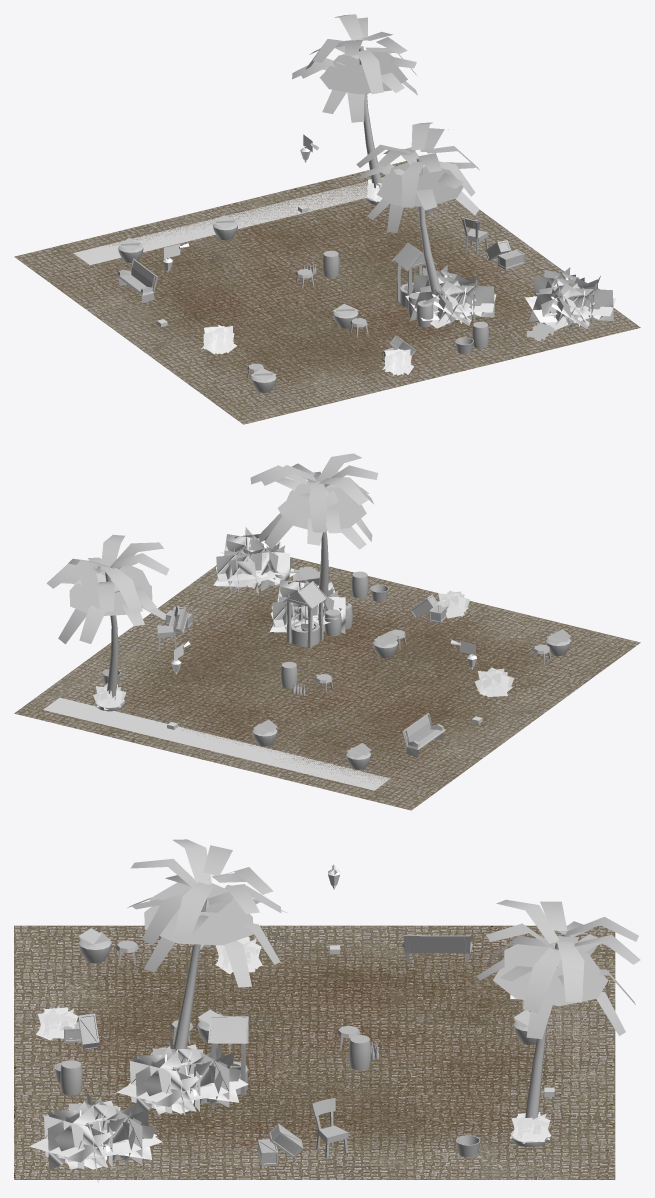
The model's file is propsonly_4.gltf.
The picture shows the model from 3 angles, top to bottom: view 1: azimuth 30°, elevation 25°; view 2: azimuth 150°, elevation 25°; view 3: azimuth 270°, elevation 25°; orthographic projection. The views are drawn at different scales.
Visible parts, largest first — view 1: ground.004, prop_tree2.005, prop_tree3.007, FeedbackBlocker.009, prop_bush_jungle_04_small.008, prop_bush_jungle_04_small.007, prop_well.005, prop_bench1.007, prop_building_bush_05.028, prop_building_bush_05.031; view 2: ground.004, prop_tree3.007, prop_tree2.005, FeedbackBlocker.009, prop_bush_jungle_04_small.008, prop_bush_jungle_04_small.007, prop_well.005, prop_bench1.007, prop_building_bush_05.028, prop_building_bush_05.031, prop_building_bush_05.030, prop_flowerpot.016 (+3 smaller); view 3: ground.004, prop_tree2.005, prop_tree3.007, prop_bush_jungle_04_small.008, prop_bush_jungle_04_small.007, prop_well.005, prop_bench1.007, prop_chair1.004, prop_building_bush_05.031, prop_building_bush_05.030, prop_flowerpot.020, prop_building_bush_05.028 (+5 smaller).
Part boxes in pixels (bbox=[...]): ground.004: bbox=[14, 161, 640, 424]; prop_tree2.005: bbox=[356, 122, 479, 291]; prop_tree3.007: bbox=[292, 14, 417, 188]; FeedbackBlocker.009: bbox=[73, 181, 368, 265]; prop_bush_jungle_04_small.008: bbox=[525, 267, 616, 330]; prop_bush_jungle_04_small.007: bbox=[405, 265, 496, 328]; prop_well.005: bbox=[393, 242, 437, 309]; prop_bench1.007: bbox=[116, 258, 158, 302]; prop_building_bush_05.028: bbox=[201, 324, 236, 354]; prop_building_bush_05.031: bbox=[382, 348, 413, 375]; ground.004: bbox=[14, 557, 640, 810]; prop_tree3.007: bbox=[46, 534, 168, 699]; prop_tree2.005: bbox=[250, 453, 378, 605]; FeedbackBlocker.009: bbox=[43, 697, 390, 790]; prop_bush_jungle_04_small.008: bbox=[213, 527, 299, 593]; prop_bush_jungle_04_small.007: bbox=[270, 572, 355, 633]; prop_well.005: bbox=[283, 581, 327, 648]; prop_bench1.007: bbox=[402, 713, 445, 757]; prop_building_bush_05.028: bbox=[475, 667, 514, 697]; prop_building_bush_05.031: bbox=[437, 590, 469, 618]; prop_building_bush_05.030: bbox=[93, 683, 126, 710]; prop_flowerpot.016: bbox=[252, 719, 277, 746]; ground.004: bbox=[14, 925, 615, 1179]; prop_tree2.005: bbox=[127, 839, 286, 1061]; prop_tree3.007: bbox=[476, 899, 640, 1119]; prop_bush_jungle_04_small.008: bbox=[29, 1092, 162, 1182]; prop_bush_jungle_04_small.007: bbox=[116, 1036, 248, 1115]; prop_well.005: bbox=[208, 1016, 249, 1095]; prop_bench1.007: bbox=[402, 935, 472, 964]; prop_chair1.004: bbox=[312, 1098, 348, 1158]; prop_building_bush_05.031: bbox=[36, 1005, 78, 1040]; prop_building_bush_05.030: bbox=[510, 1112, 551, 1143]; prop_flowerpot.020: bbox=[78, 928, 111, 963]; prop_building_bush_05.028: bbox=[215, 936, 262, 974].
Size of what is drawn, in the model's own units: 3.3 by 1.51 by 3.44.
